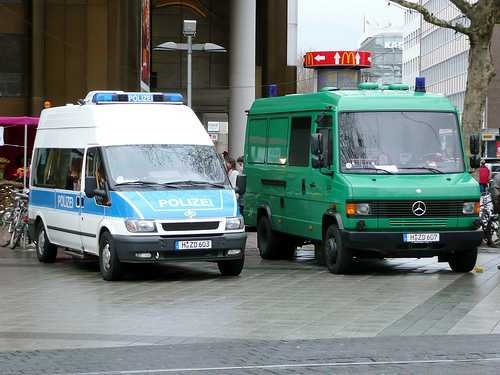Ambulance: (31, 67, 257, 268)
